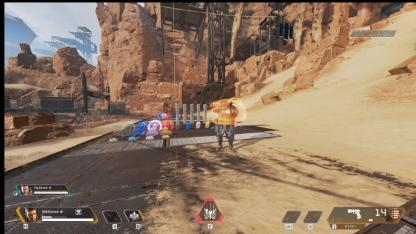Target: (215, 97, 237, 151)
